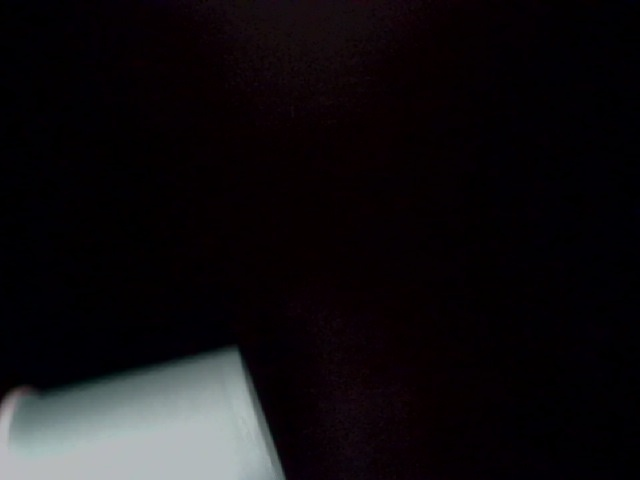KHSLJ: (160, 2, 640, 325)
